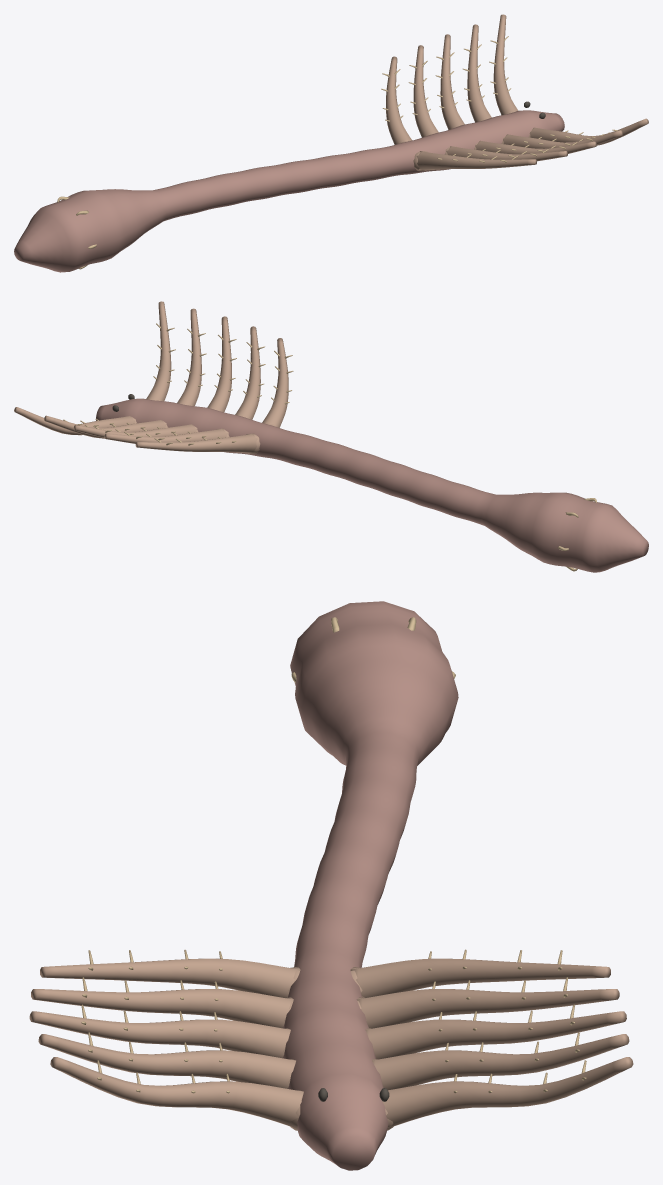
Rendered from facivermis.glb.
3 views of the same model, one above another, from view 1: azimuth 30°, elevation 25°; view 2: azimuth 150°, elevation 25°; view 3: azimuth 270°, elevation 25° (orthographic). The views are drawn at different scales.
Visible parts, largest first — view 1: continuous-bare-trunk-and-swollen-posterior, exactly-five-anterior-arm-pairs, restrained-paired-arm-spines; view 2: continuous-bare-trunk-and-swollen-posterior, exactly-five-anterior-arm-pairs, restrained-paired-arm-spines; view 3: exactly-five-anterior-arm-pairs, continuous-bare-trunk-and-swollen-posterior, restrained-paired-arm-spines.
Part boxes in pixels (left/top/right/bottom): continuous-bare-trunk-and-swollen-posterior: left=14, top=110, right=564, bottom=272; exactly-five-anterior-arm-pairs: left=386, top=14, right=648, bottom=170; restrained-paired-arm-spines: left=381, top=36, right=617, bottom=162; continuous-bare-trunk-and-swollen-posterior: left=96, top=398, right=648, bottom=572; exactly-five-anterior-arm-pairs: left=14, top=301, right=288, bottom=453; restrained-paired-arm-spines: left=63, top=323, right=293, bottom=445; exactly-five-anterior-arm-pairs: left=29, top=958, right=633, bottom=1130; continuous-bare-trunk-and-swollen-posterior: left=283, top=601, right=458, bottom=1170; restrained-paired-arm-spines: left=81, top=949, right=586, bottom=1093.
Size of the model in its own units: 0.075 by 0.0106 by 0.0353.
